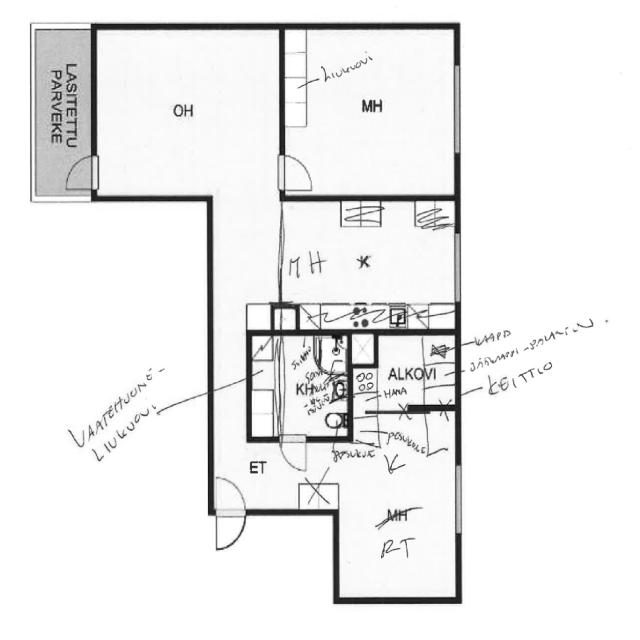door: (213, 475, 249, 552), (60, 151, 101, 191), (277, 153, 316, 193), (278, 434, 311, 474)
window: (450, 61, 465, 155), (451, 463, 467, 539), (450, 230, 466, 305), (275, 205, 285, 290)
zone: (92, 25, 280, 194), (281, 23, 458, 198), (278, 199, 458, 329), (340, 413, 459, 602), (249, 332, 351, 440), (351, 331, 459, 410)
